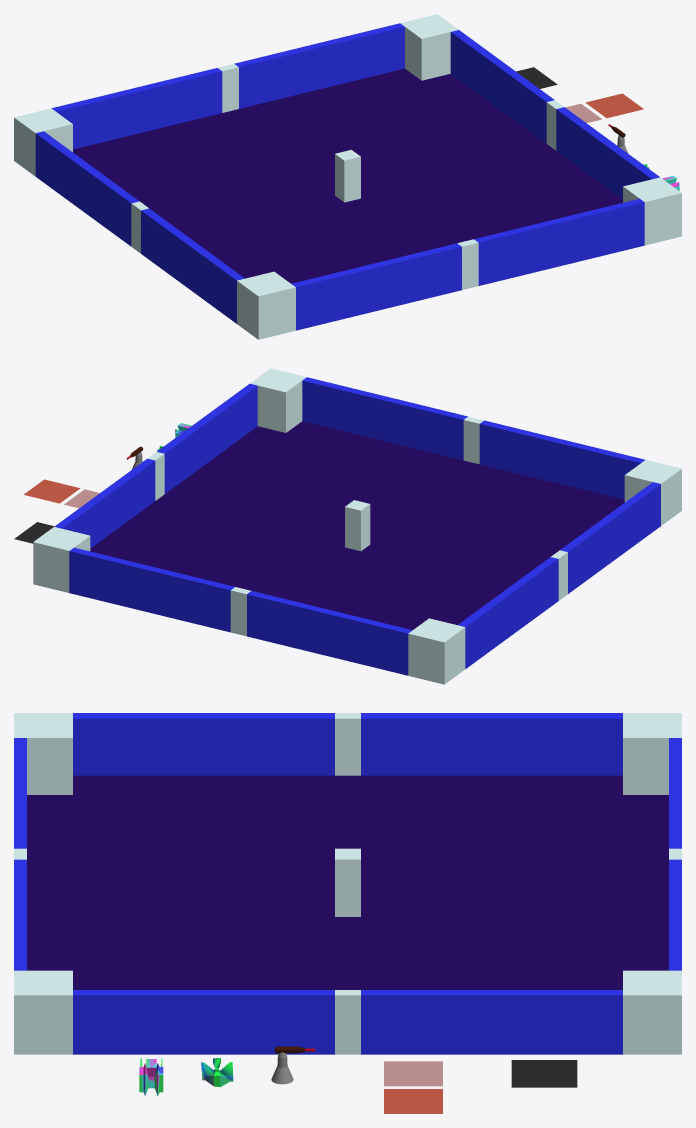
The model's file is world.gltf.
3 views of the same model, one above another, from view 1: azimuth 30°, elevation 25°; view 2: azimuth 150°, elevation 25°; view 3: azimuth 270°, elevation 25° (orthographic). The views are drawn at different scales.
Visible parts, largest first — view 1: Floor, Wall01, Wall02, Wall04, Wall03, Wall07, Wall08, Wall06, Wall05, CornerPillar02, CornerPillar04, CornerPillar01 (+7 smaller); view 2: Floor, Wall03, Wall04, Wall01, Wall02, Wall07, Wall08, Wall05, Wall06, CornerPillar03, CornerPillar01, CornerPillar04 (+7 smaller); view 3: Floor, Wall06, Wall05, Wall07, Wall08, CornerPillar01, CornerPillar04, CornerPillar02, CornerPillar03, Road, CenterPillar, MiddlePillar02 (+9 smaller).
Boxes of the visible parts, x1=… form: Floor: x1=73, y1=68, x2=622, y2=283; Wall01: x1=474, y1=198, x2=644, y2=285; Wall02: x1=291, y1=243, x2=461, y2=330; Wall04: x1=234, y1=23, x2=404, y2=108; Wall03: x1=52, y1=68, x2=222, y2=149; Wall07: x1=35, y1=131, x2=139, y2=246; Wall08: x1=141, y1=208, x2=244, y2=323; Wall06: x1=450, y1=30, x2=554, y2=143; Wall05: x1=556, y1=107, x2=659, y2=199; CornerPillar02: x1=237, y1=271, x2=295, y2=339; CornerPillar04: x1=400, y1=14, x2=458, y2=80; CornerPillar01: x1=623, y1=177, x2=681, y2=245; Floor: x1=90, y1=421, x2=624, y2=629; Wall03: x1=247, y1=591, x2=412, y2=675; Wall04: x1=69, y1=547, x2=234, y2=632; Wall01: x1=302, y1=377, x2=467, y2=460; Wall02: x1=479, y1=420, x2=645, y2=499; Wall07: x1=457, y1=557, x2=558, y2=668; Wall08: x1=560, y1=482, x2=660, y2=593; Wall05: x1=157, y1=383, x2=257, y2=493; Wall06: x1=54, y1=458, x2=155, y2=548; CornerPillar03: x1=408, y1=618, x2=465, y2=684; CornerPillar01: x1=250, y1=368, x2=306, y2=432; CornerPillar04: x1=33, y1=527, x2=90, y2=592; Floor: x1=27, y1=775, x2=668, y2=989; Wall06: x1=361, y1=990, x2=622, y2=1054; Wall05: x1=73, y1=990, x2=334, y2=1054; Wall07: x1=361, y1=713, x2=622, y2=775; Wall08: x1=73, y1=713, x2=334, y2=775; CornerPillar01: x1=14, y1=970, x2=72, y2=1054; CornerPillar04: x1=623, y1=970, x2=681, y2=1054; CornerPillar02: x1=14, y1=713, x2=72, y2=794; CornerPillar03: x1=623, y1=713, x2=681, y2=794; Road: x1=511, y1=1060, x2=577, y2=1087; CenterPillar: x1=335, y1=848, x2=360, y2=916; MiddlePillar02: x1=335, y1=990, x2=360, y2=1054.
Size of the model in its own units: 126 by 11.93 by 102.
26 materials, 26 textured.
